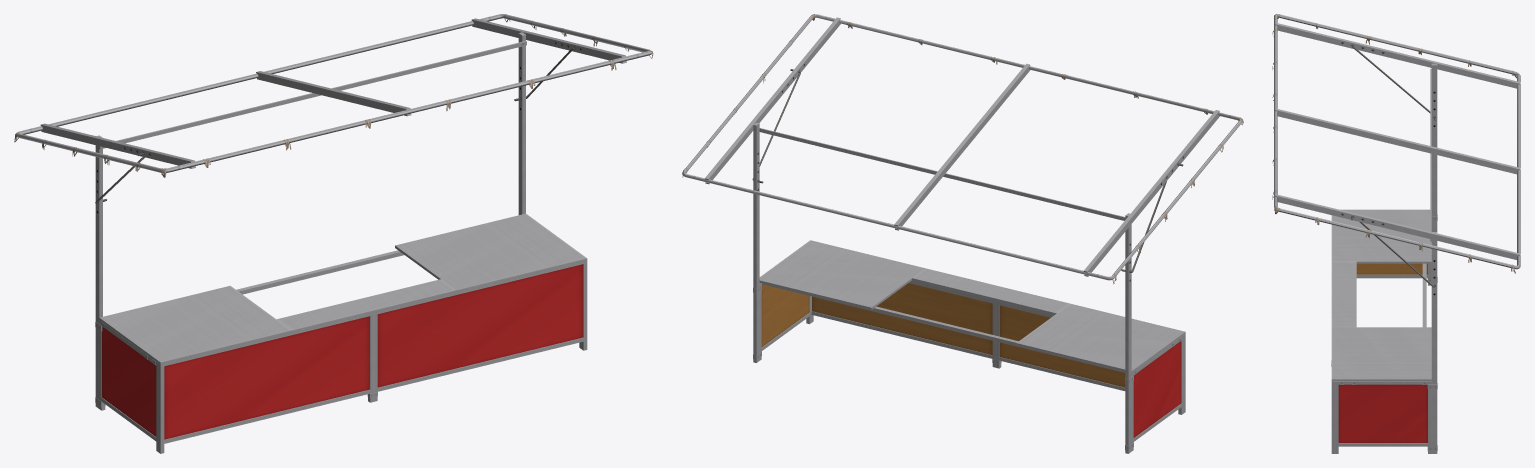
The model's file is jsf_2P_s04_c06_t02.fbx.
3 renders of one model, left to right at view 1: azimuth 30°, elevation 25°; view 2: azimuth 150°, elevation 25°; view 3: azimuth 270°, elevation 25°, orthographic. The views are drawn at different scales.
Visible parts, largest first — view 1: Base_s04_c06, Table_2P_s04_t02, Pillar2_s04, Rope_2P_s04; view 2: Base_s04_c06, Table_2P_s04_t02, Pillar2_s04; view 3: Pillar2_s04, Table_2P_s04_t02, Base_s04_c06, Rope_2P_s04.
Boxes of the visible parts, x1,y1,x2,y2 form: Base_s04_c06: (95,258,587,453); Table_2P_s04_t02: (99,213,586,365); Pillar2_s04: (15,14,651,408); Rope_2P_s04: (14,14,653,177); Base_s04_c06: (753,240,1185,451); Table_2P_s04_t02: (759,240,1184,374); Pillar2_s04: (682,14,1242,453); Pillar2_s04: (1274,14,1520,453); Table_2P_s04_t02: (1332,209,1431,384); Base_s04_c06: (1331,215,1437,453); Rope_2P_s04: (1272,14,1516,273).
Bounding box in the file's own units: 395 × 244 × 211.
